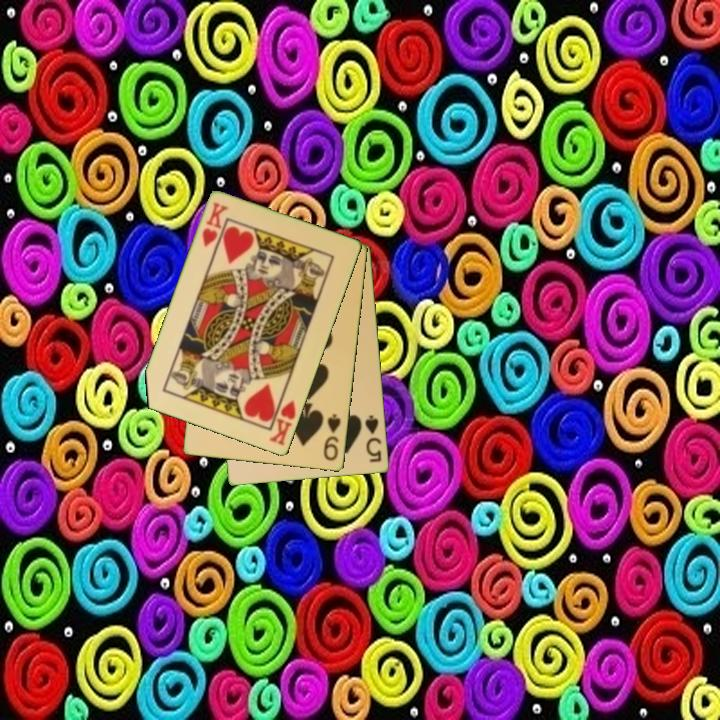5s: (362, 412, 385, 465)
9s: (320, 411, 344, 464)
Kh: (266, 391, 299, 449), (199, 199, 231, 250)
